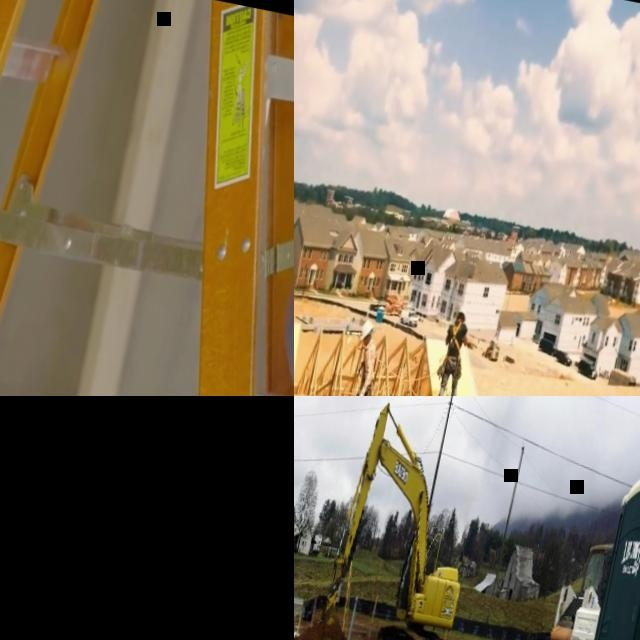Hardhat: (361, 319, 376, 341), (457, 307, 468, 321)
NO-Mask: (363, 339, 369, 346)
NO-Safety Vest: (446, 321, 467, 358)
Person: (429, 304, 475, 396), (337, 319, 385, 396)
machinery: (294, 396, 495, 640), (524, 534, 616, 640), (383, 295, 405, 318)
vehicle: (576, 358, 600, 380), (399, 307, 421, 328), (538, 336, 559, 356), (555, 349, 574, 366)
